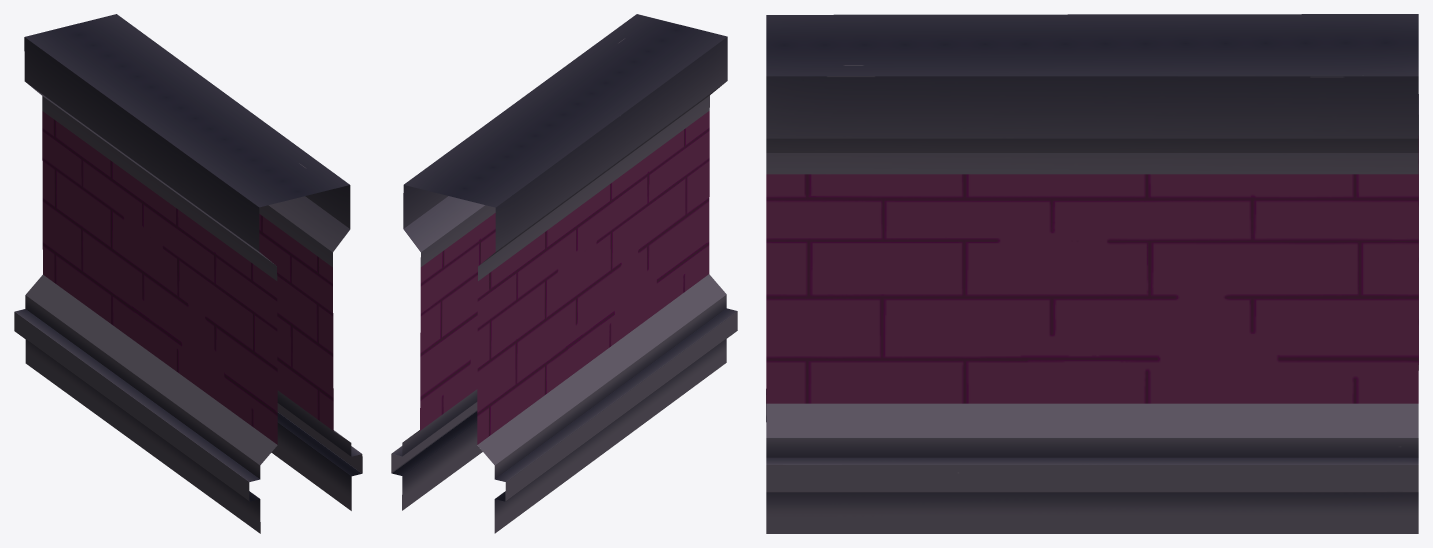
File: pared.obj
3 views of the same model, side by side, from view 1: azimuth 30°, elevation 25°; view 2: azimuth 150°, elevation 25°; view 3: azimuth 270°, elevation 25° (orthographic). The views are drawn at different scales.
Visible parts, largest first — view 1: Parede; view 2: Parede; view 3: Parede.
Part boxes in pixels (left/top/right/bottom): Parede: left=14, top=14, right=362, bottom=533; Parede: left=391, top=14, right=737, bottom=533; Parede: left=766, top=14, right=1418, bottom=533.
Size of the model in its own units: 15.15 by 41.31 by 53.44.
Materials: 1 (1 with a texture image).
